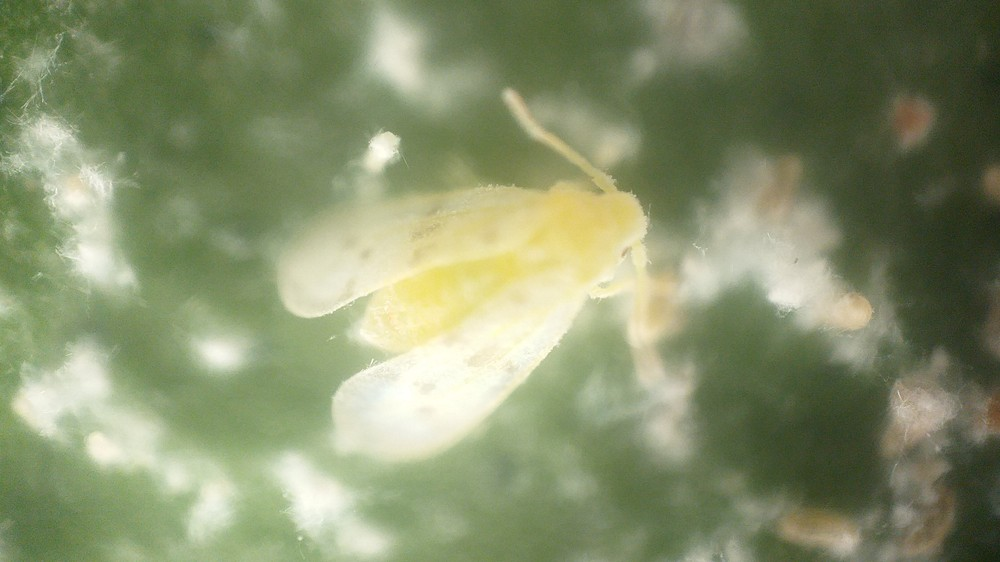Mosca Blanca: (261, 86, 687, 481)
